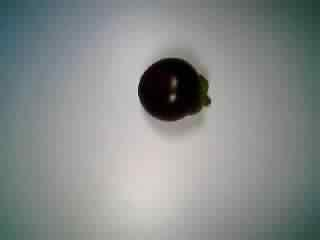mangosteen: (135, 50, 212, 125)
